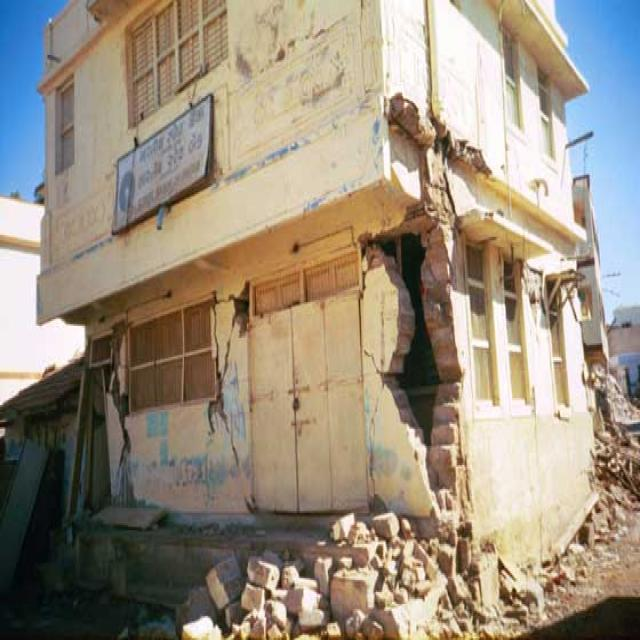Severely_Damaged: (42, 89, 618, 600)
